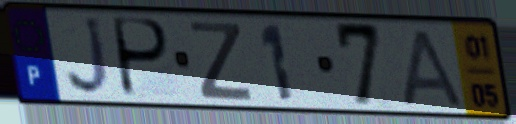1: (258, 22, 298, 104)
7: (331, 19, 386, 112)
A: (400, 26, 467, 110)
J: (64, 15, 114, 99)
P: (112, 14, 173, 101)
Z: (187, 18, 255, 103)
